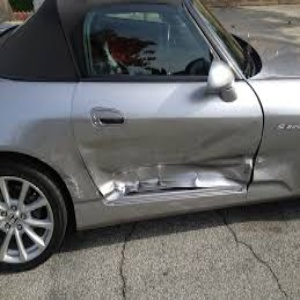door: (75, 134, 261, 196)
